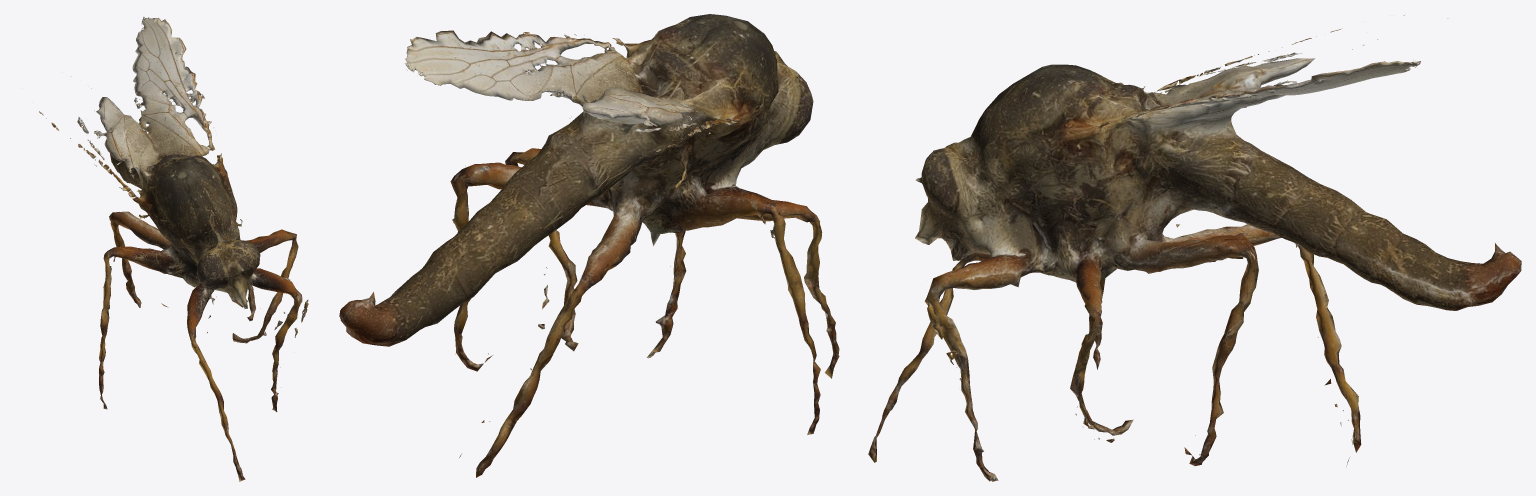
Rendered from infected-swarmer.glb.
The picture shows the model from 3 angles, left to right: view 1: azimuth 30°, elevation 25°; view 2: azimuth 150°, elevation 25°; view 3: azimuth 270°, elevation 25°; orthographic projection. The views are drawn at different scales.
Visible parts, largest first — view 1: Infected Swarmer; view 2: Infected Swarmer; view 3: Infected Swarmer.
Boxes of the visible parts, x1,y1,x2,y2 form: Infected Swarmer: (39, 17, 308, 481); Infected Swarmer: (339, 14, 839, 477); Infected Swarmer: (868, 15, 1521, 481).
Size of the model in its own units: 0.0405 by 0.0615 by 0.0774.
Materials: 1 (1 with a texture image).
